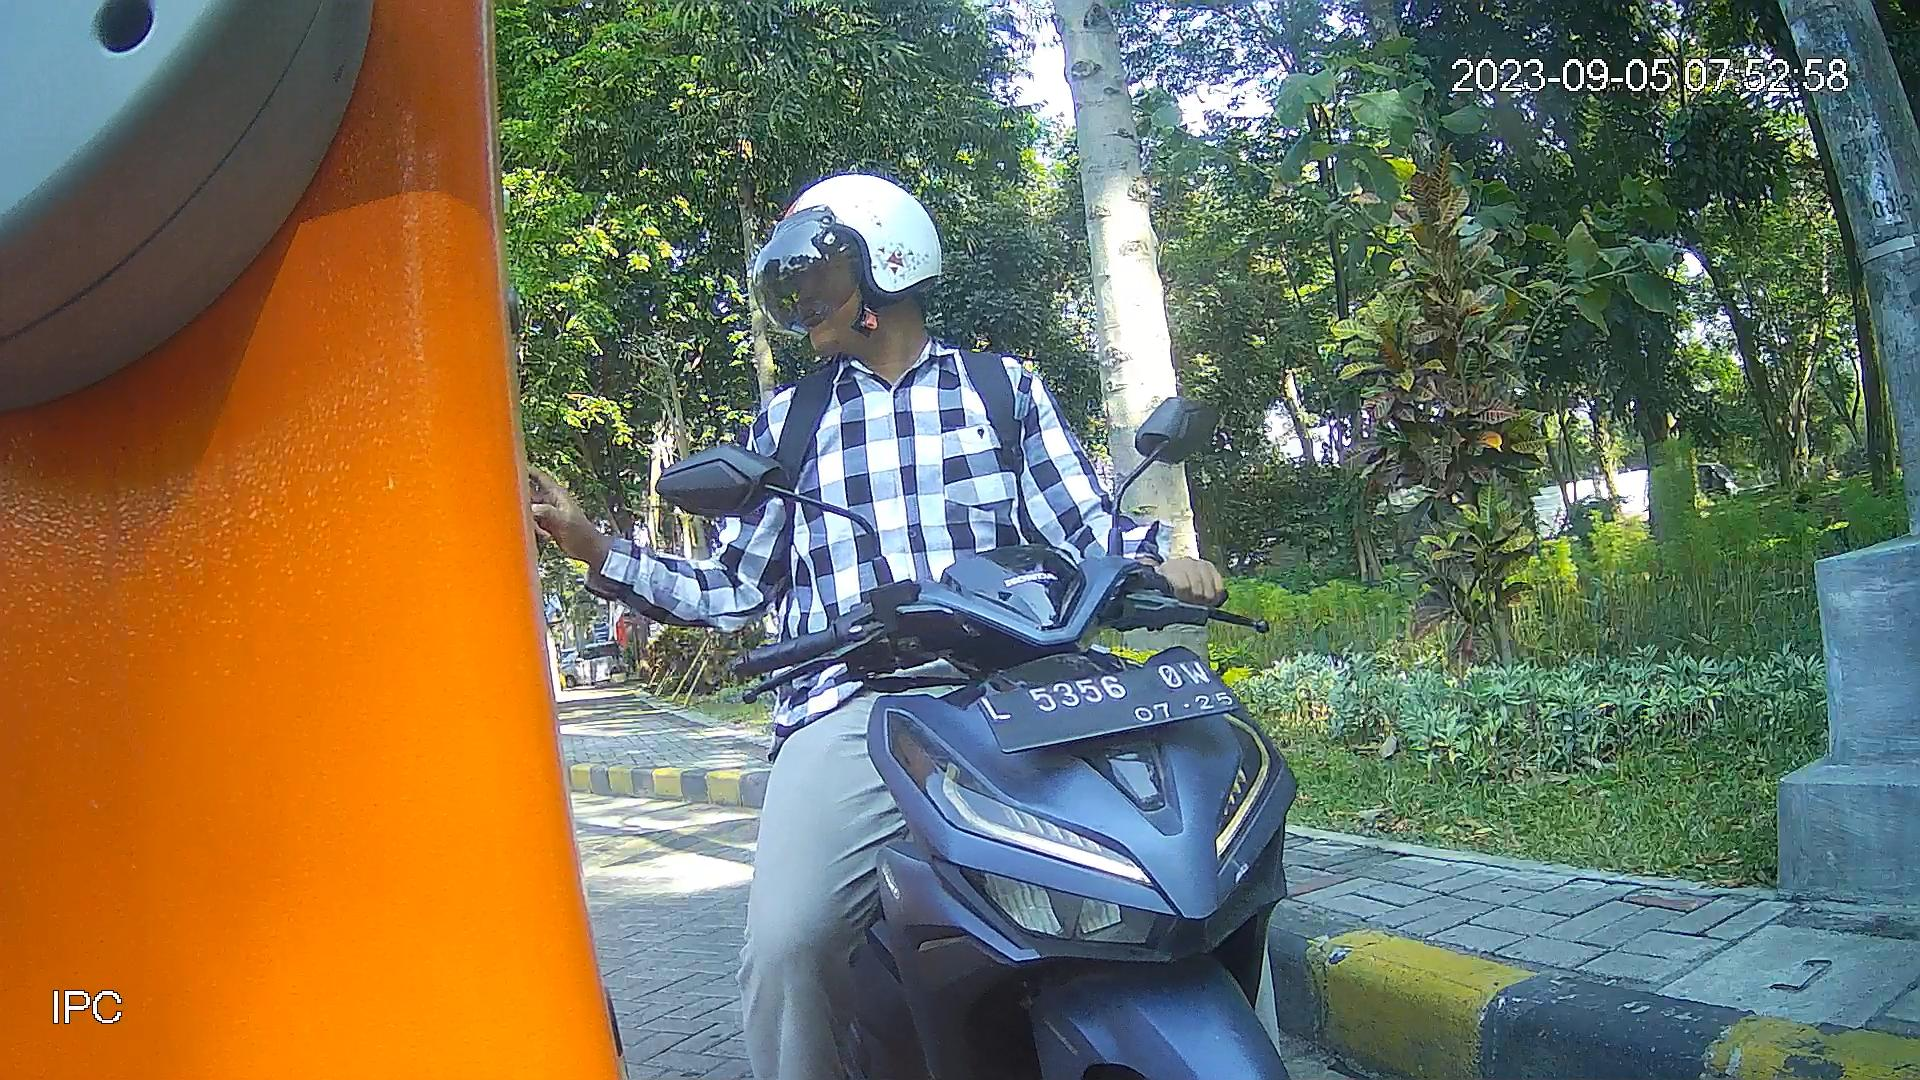plat: (971, 657, 1245, 753)
